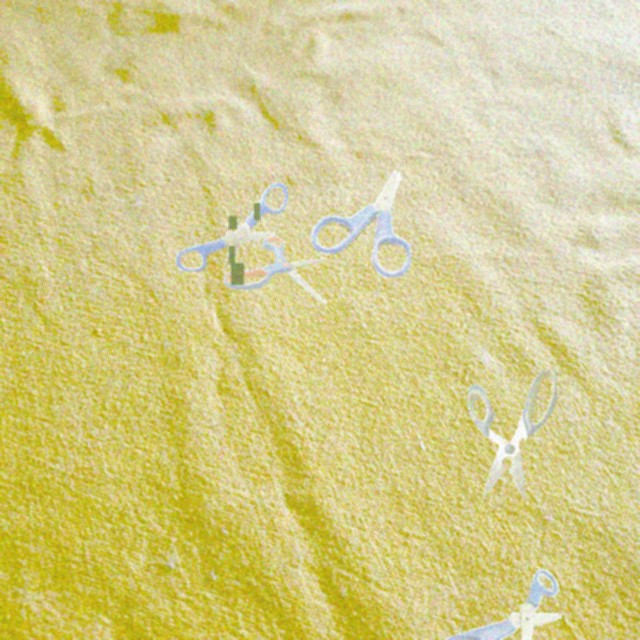scissors: (468, 370, 557, 500), (311, 170, 411, 277), (176, 182, 288, 271), (433, 568, 562, 640), (223, 236, 327, 304)
